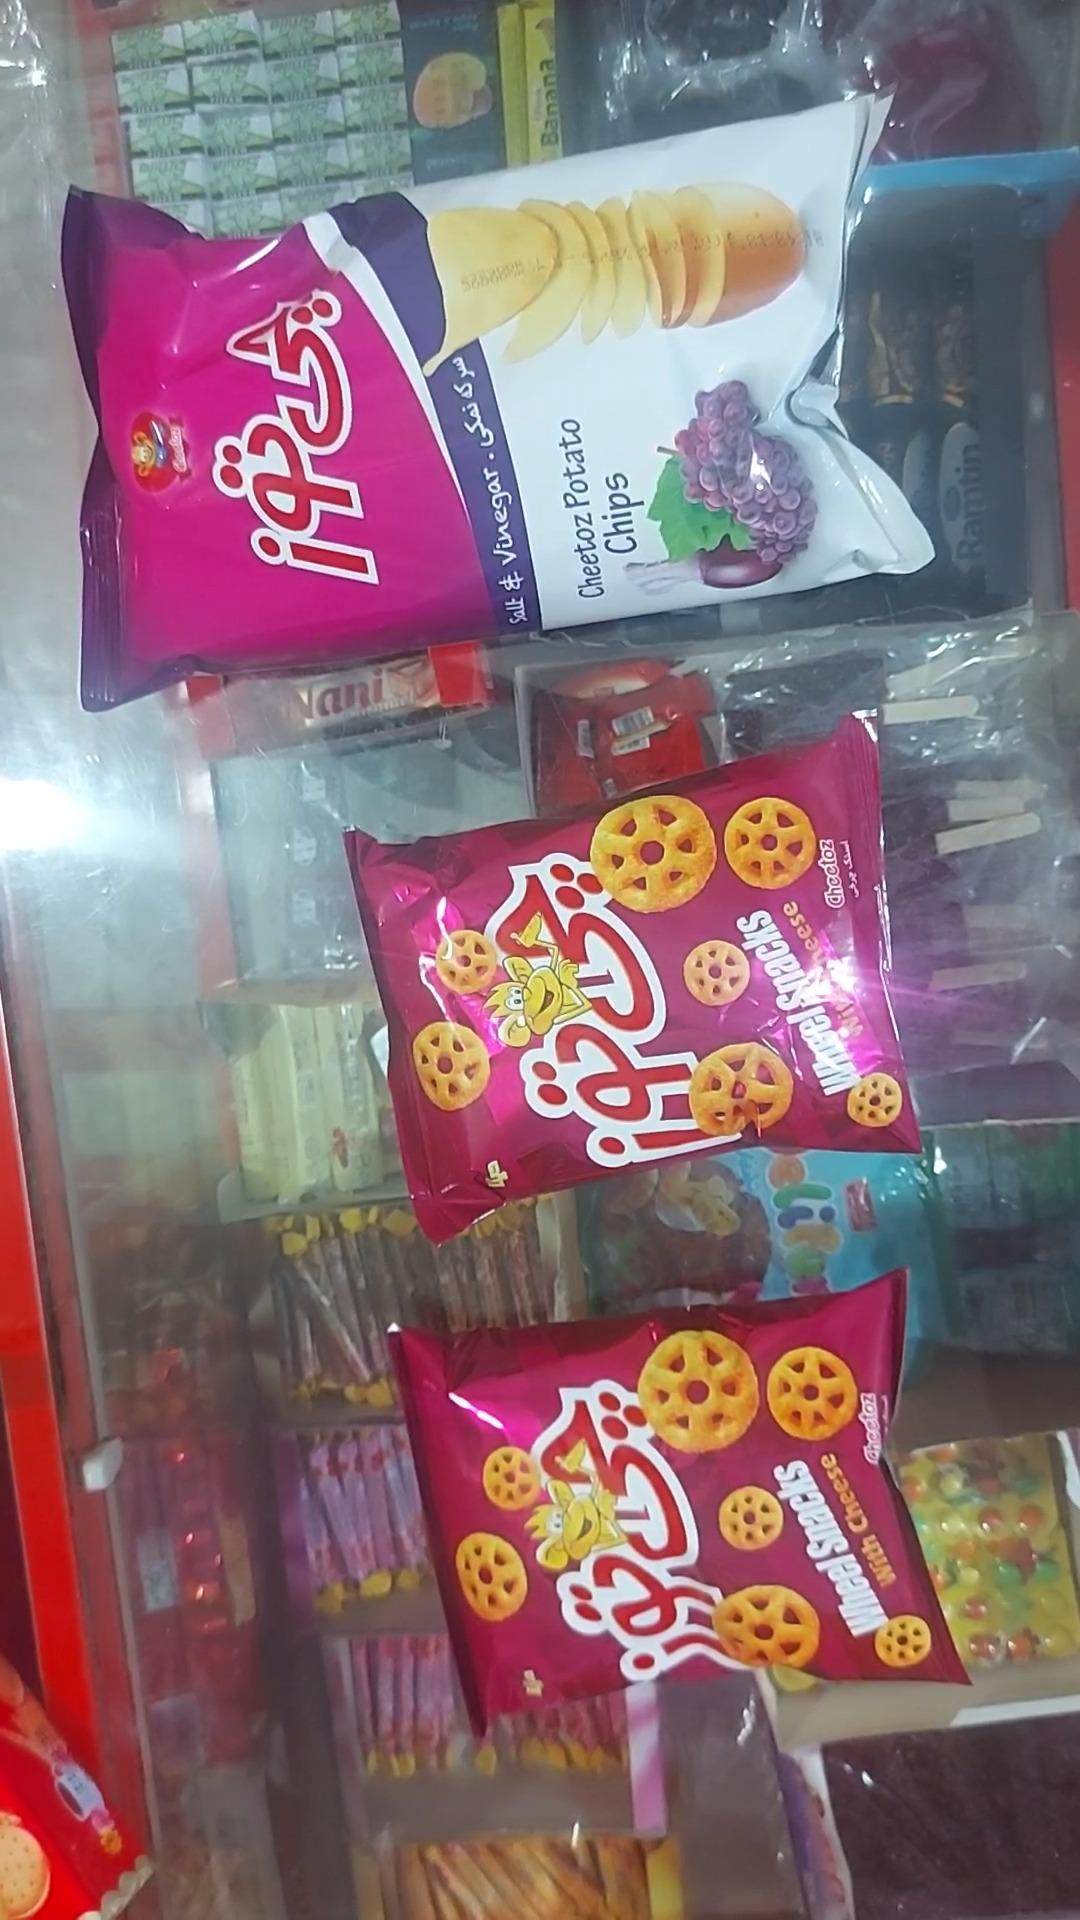Cheetoz vinegar chips: (62, 96, 938, 716)
Cheetoz wheelsnack: (345, 717, 924, 1250), (386, 1269, 971, 1739)
